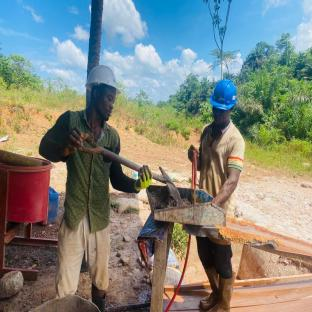Person: (63, 61, 149, 303), (192, 79, 262, 191)
ProcessingEquipment: (145, 186, 311, 310)
